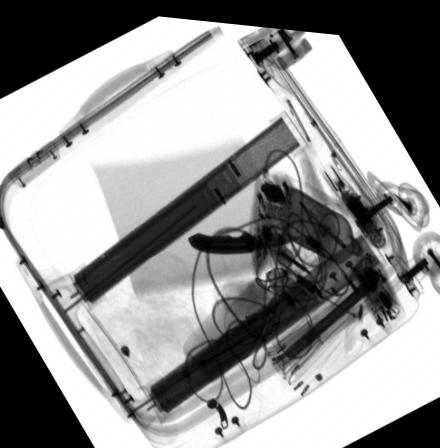Knife: (187, 224, 296, 248)
